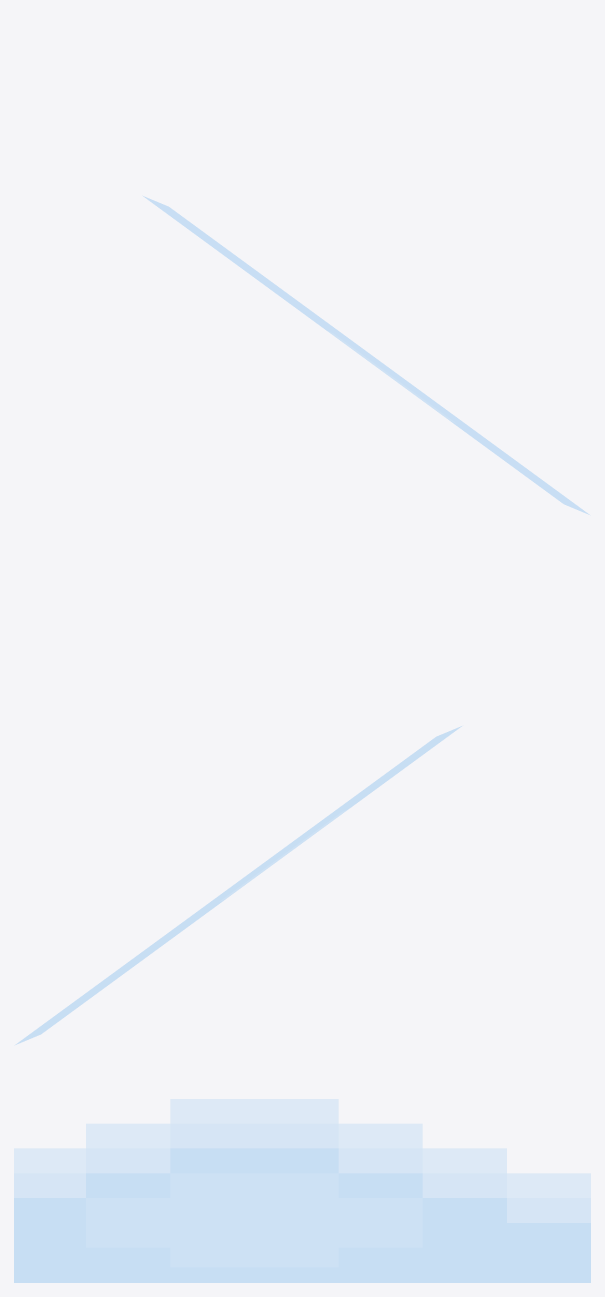
3 renders of one model, top to bottom at view 1: azimuth 30°, elevation 25°; view 2: azimuth 150°, elevation 25°; view 3: azimuth 270°, elevation 25°, orthographic. The views are drawn at different scales.
Size of the model in its own units: 0.2119 by 0.3007 by 1.
Materials: 1 (1 with a texture image).
